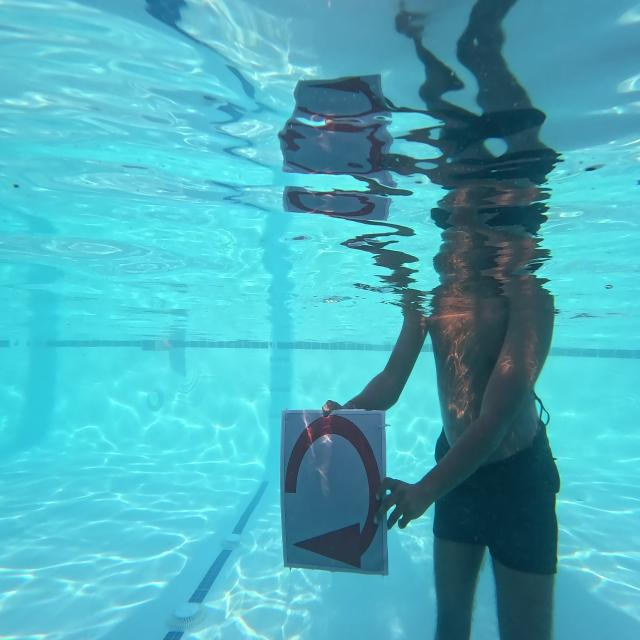red_side: (271, 394, 393, 587)
